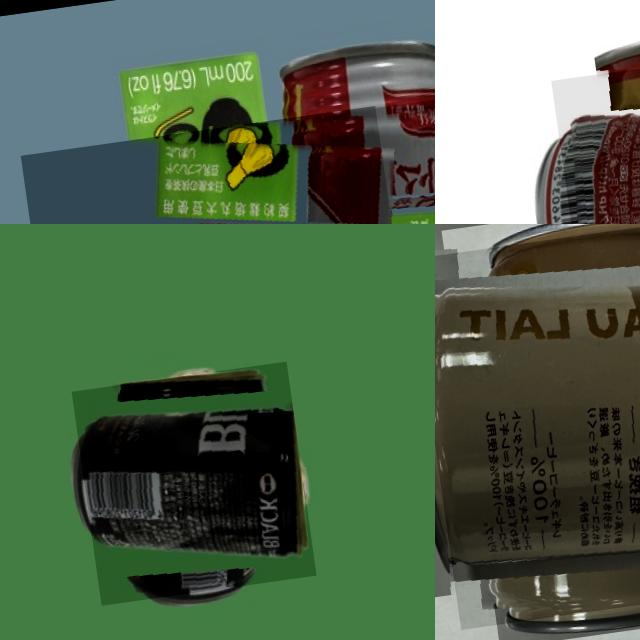Aluminium Foil: (20, 105, 424, 224)
Can: (435, 224, 640, 629), (70, 361, 316, 605), (189, 83, 435, 224), (550, 34, 640, 224)
